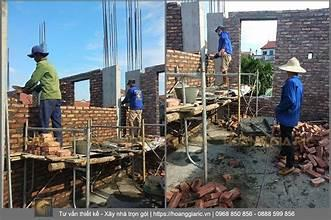Helmet: (282, 58, 305, 74), (26, 45, 48, 57)
Person: (21, 45, 63, 148), (273, 56, 306, 175), (208, 25, 232, 88), (121, 79, 144, 138)
no-vest: (278, 78, 303, 122), (35, 63, 62, 101), (127, 89, 143, 109), (218, 35, 232, 55)
